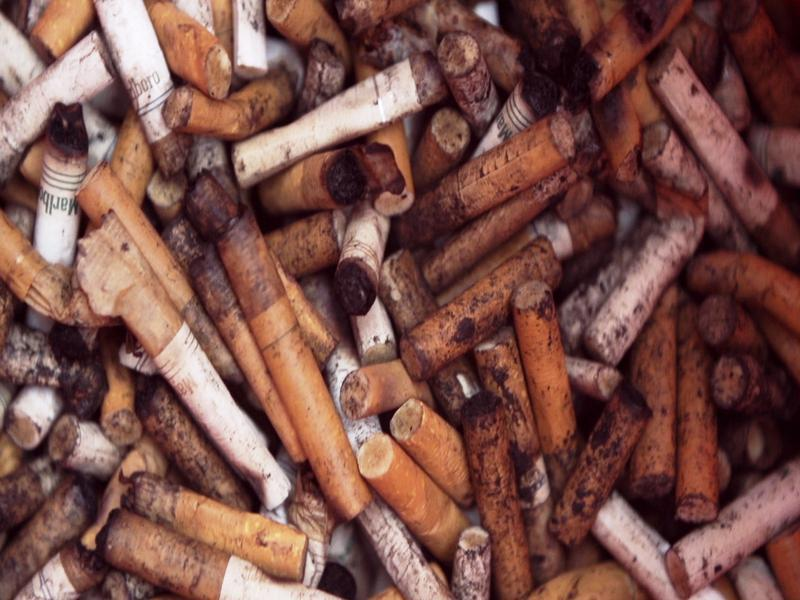burned_cigarette: (202, 210, 373, 529), (111, 274, 297, 512), (227, 48, 444, 193), (644, 44, 786, 234), (396, 234, 576, 383), (118, 467, 313, 587), (543, 376, 654, 551), (507, 276, 583, 482), (26, 99, 95, 268)
